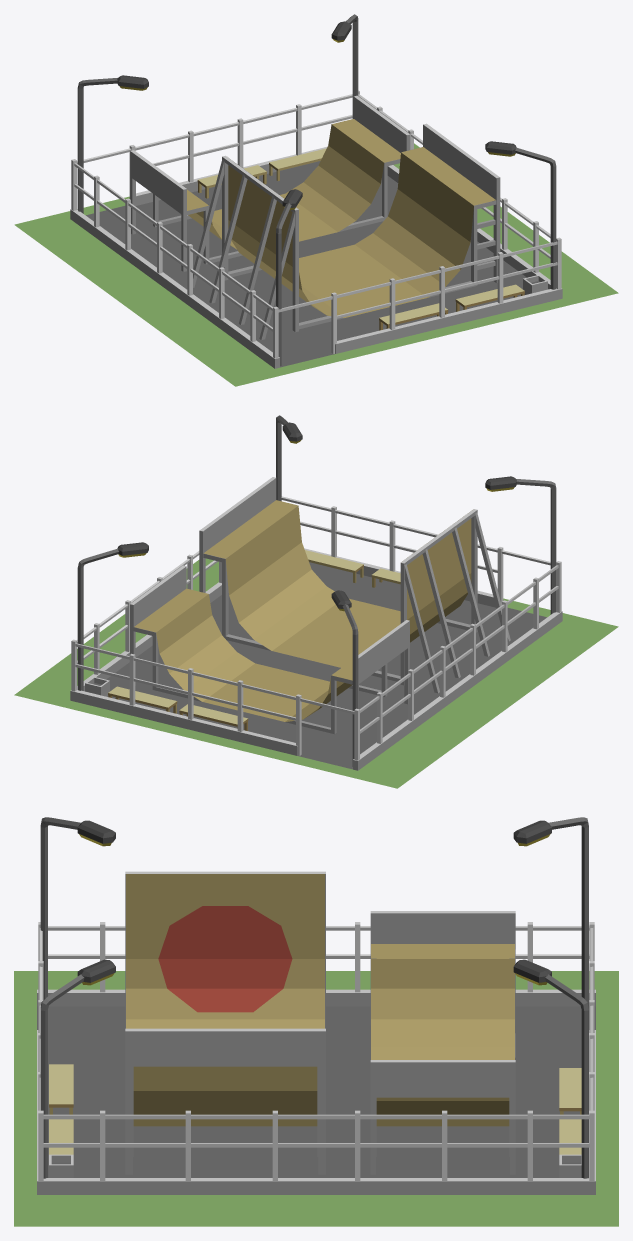
File: landscape_entertainment_009.glb
The picture shows the model from 3 angles, top to bottom: view 1: azimuth 30°, elevation 25°; view 2: azimuth 150°, elevation 25°; view 3: azimuth 270°, elevation 25°; orthographic projection. The views are drawn at different scales.
Visible parts, largest first — view 1: landscape_entertainment_009; view 2: landscape_entertainment_009; view 3: landscape_entertainment_009.
Part boxes in pixels (x1,y1,x2,y2): landscape_entertainment_009: (14,14,618,386); landscape_entertainment_009: (14,415,618,788); landscape_entertainment_009: (14,817,618,1226).
Bounding box in the file's own units: 16 × 6.16 × 16.
1 material, 1 textured.
